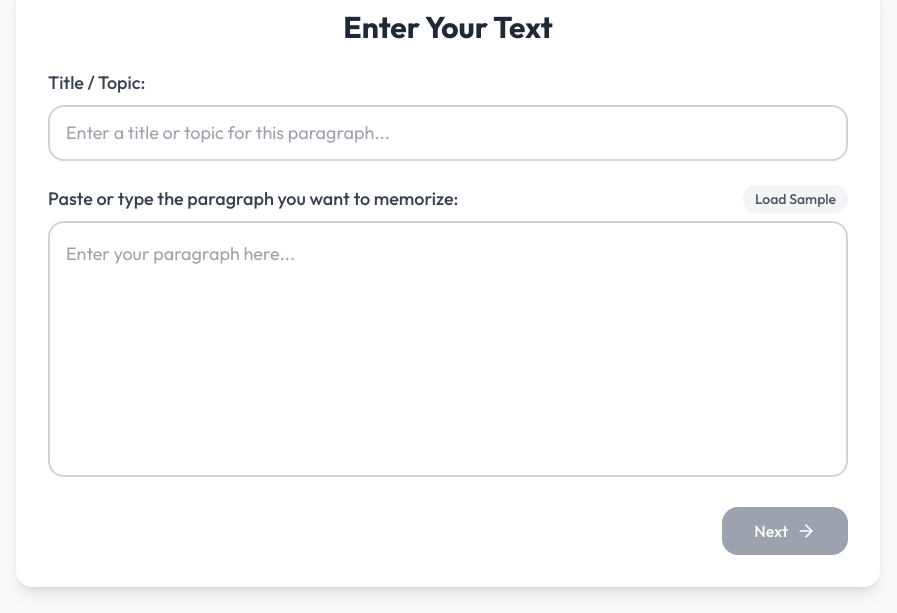
Scenario: TextInput Component › enables next button when text is entered
The image size is (897, 613).
Type "Sample text for testing" into the text box with placeholder "Enter your paragraph here..." at [448, 349], box [48,221,848,477]
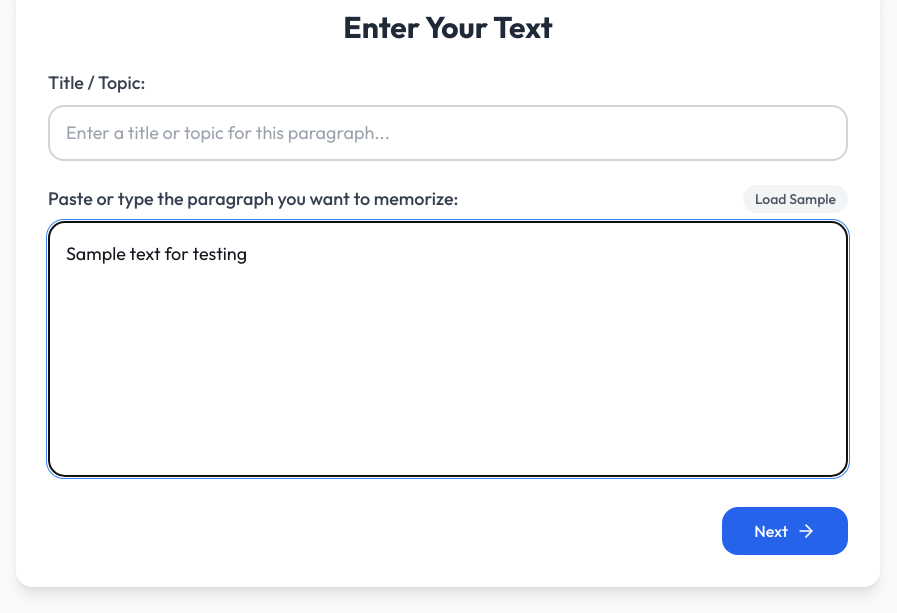
Now the button "Next" is enabled, box [722,507,848,555]
